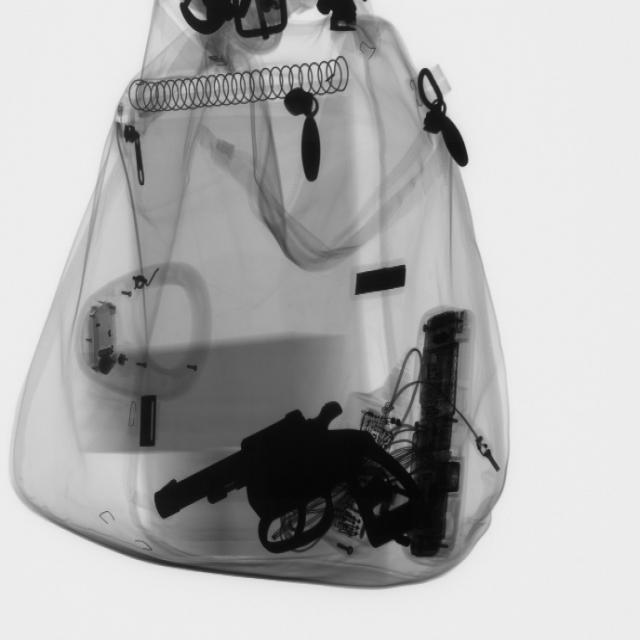GUN: (156, 400, 431, 556)
